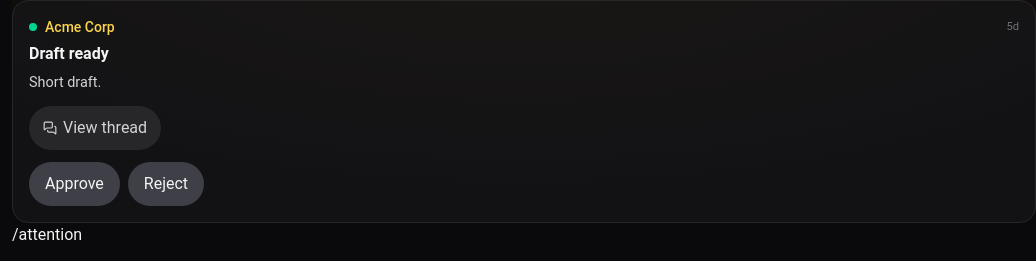
Test: AttentionCard › opens the thread behind the card, focused on the row it was raised from
Click the button with aria-label "Open thread".
click(80, 27)  # box [29,17,1019,94]
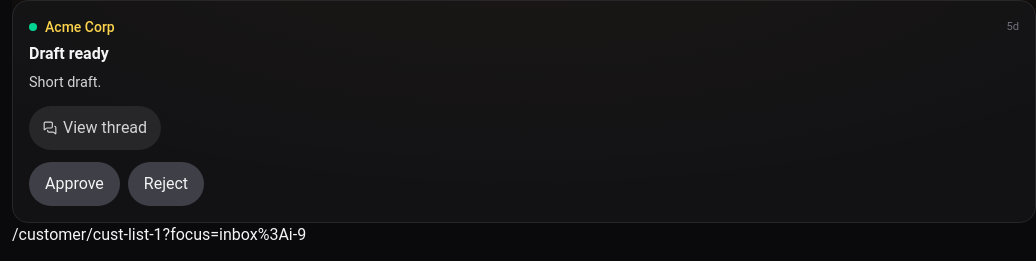
Expected: the text with test id "url" reads "/customer/cust-list-1?focus=inbox%3Ai-9", [12,225,306,244]
